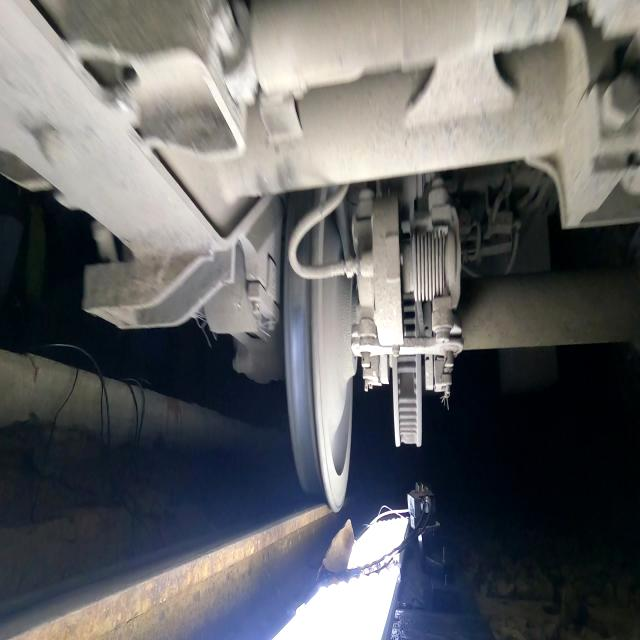Shelling: (288, 261, 306, 307)
Wheel: (284, 193, 356, 511)
